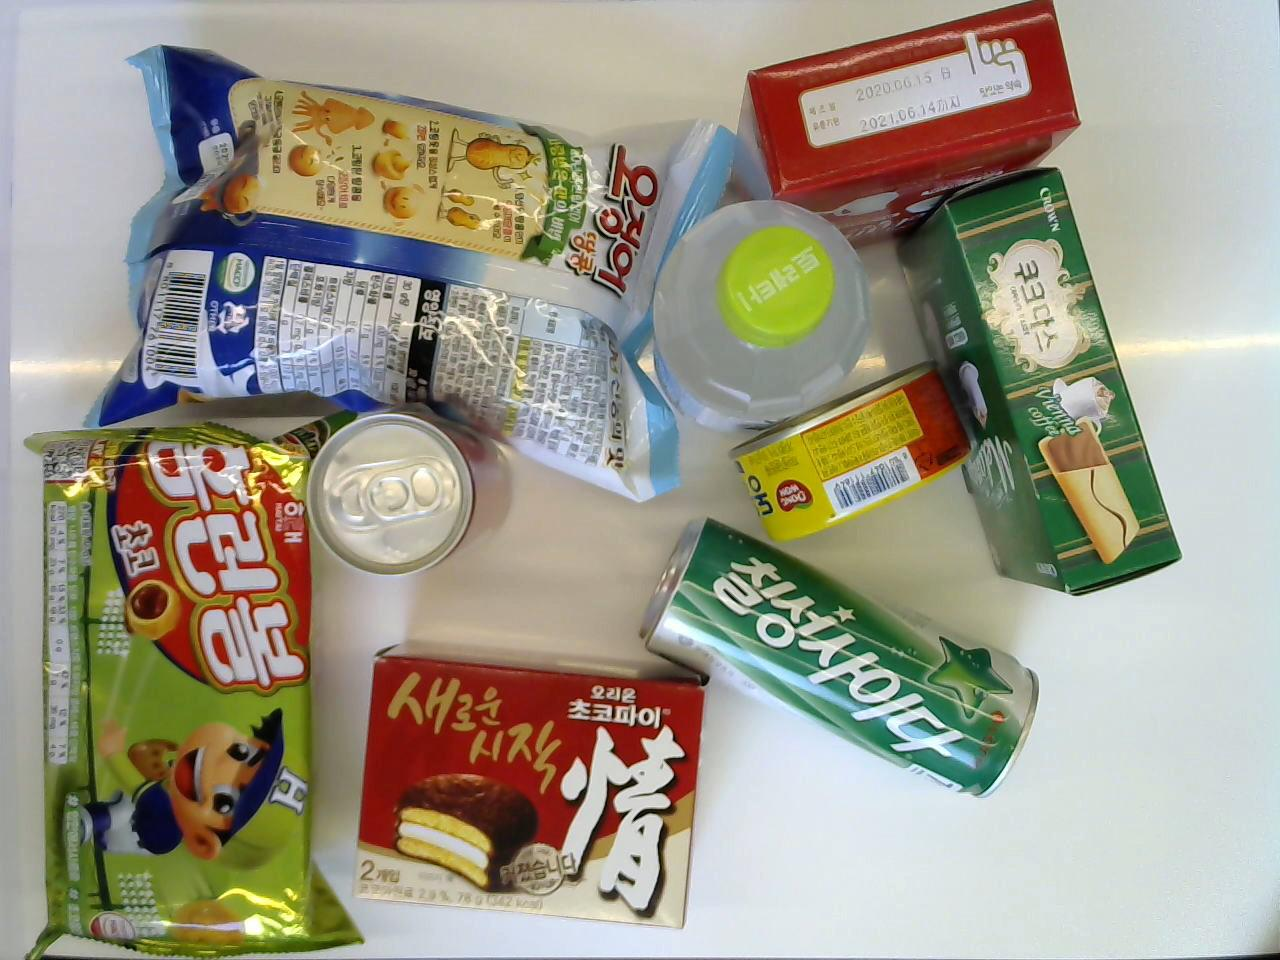chocopie: (348, 637, 709, 935)
cidar: (635, 505, 1044, 800)
coke: (299, 406, 522, 576)
couque_coffee: (895, 168, 1183, 598)
couque_white: (725, 0, 1086, 248)
homerunball: (17, 410, 373, 960)
squid_peanut: (75, 37, 733, 505)
toreta: (649, 191, 868, 433)
tuna: (731, 361, 971, 544)
